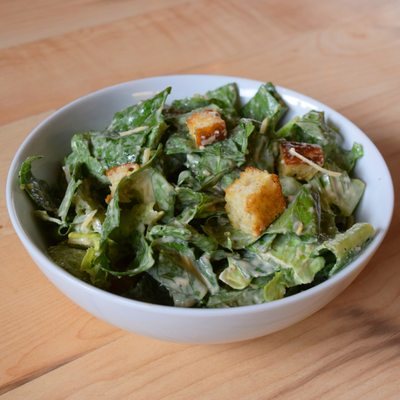sushi: (8, 64, 395, 347)
